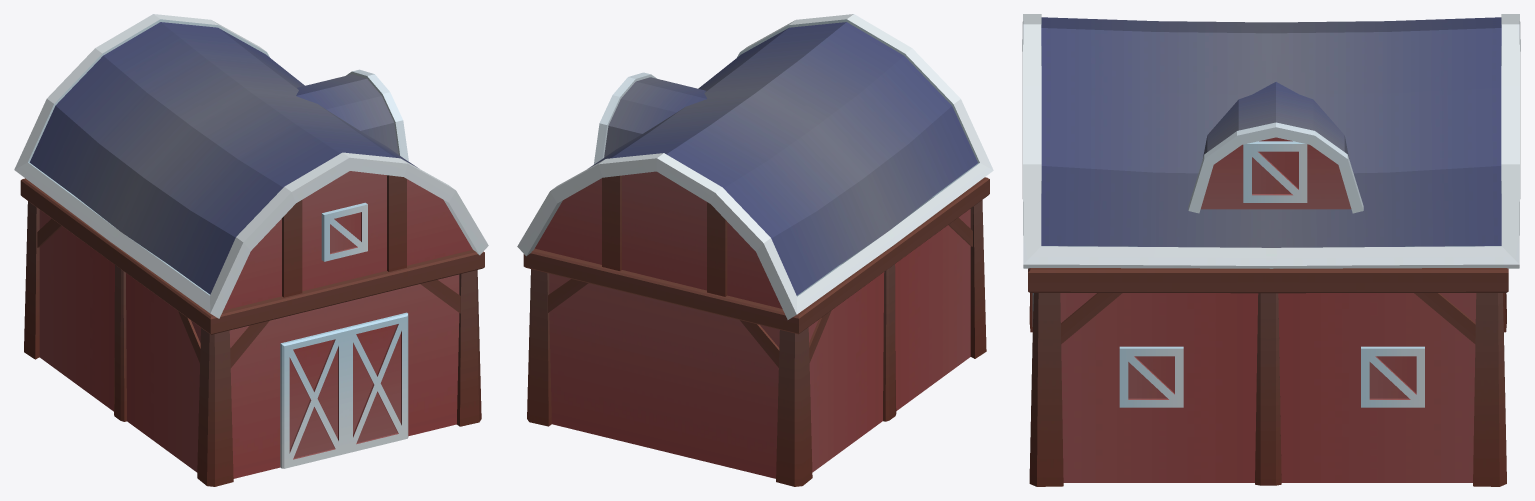
The model's file is farm_barn.glb.
3 views of the same model, side by side, from view 1: azimuth 30°, elevation 25°; view 2: azimuth 150°, elevation 25°; view 3: azimuth 270°, elevation 25° (orthographic). The views are drawn at different scales.
Parts seen in each view (by area): view 1: Cube.009; view 2: Cube.009; view 3: Cube.009.
Part boxes in pixels (x1,y1,x2,y2): Cube.009: (14, 14, 488, 486); Cube.009: (517, 14, 993, 486); Cube.009: (1022, 14, 1520, 486).
Size of the model in its own units: 5.32 by 5.44 by 6.5.
1 material, 1 textured.
